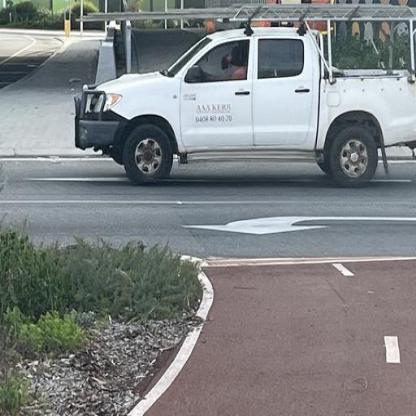Tire: (123, 126, 173, 188), (330, 126, 378, 189)
